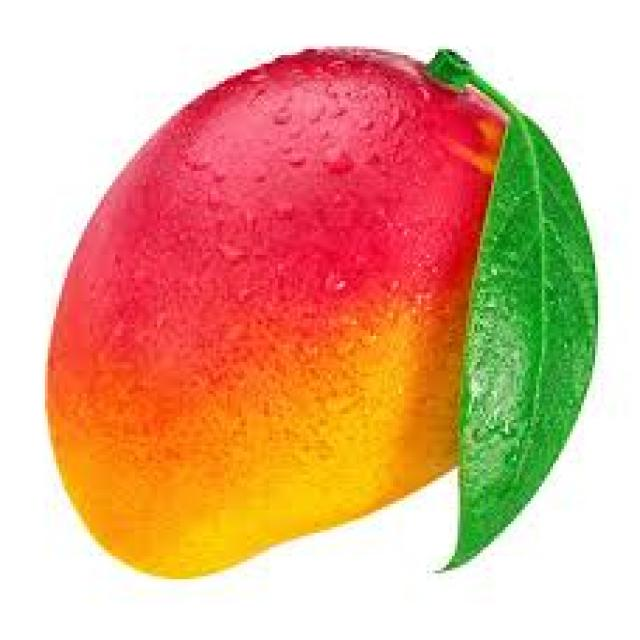Mango: (46, 64, 530, 566)
